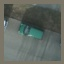car: (17, 23, 45, 40)
